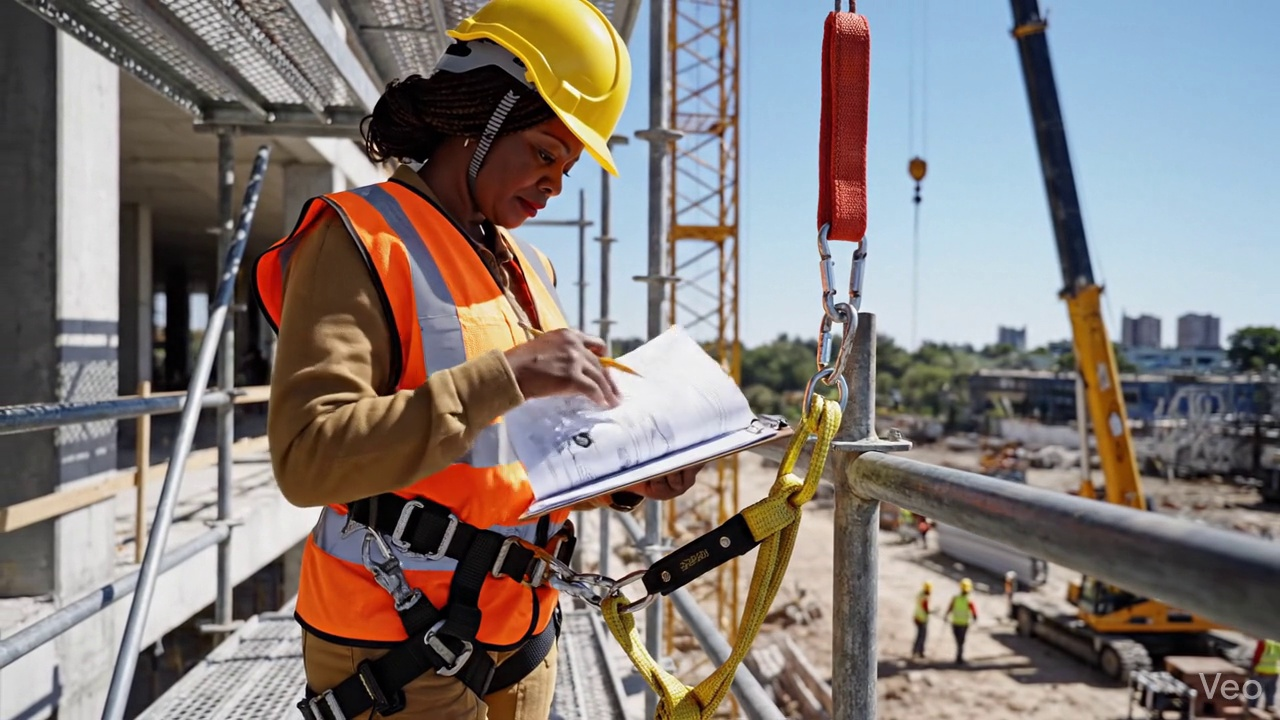p: (255, 0, 629, 719), (608, 468, 697, 507), (571, 543, 572, 544)
